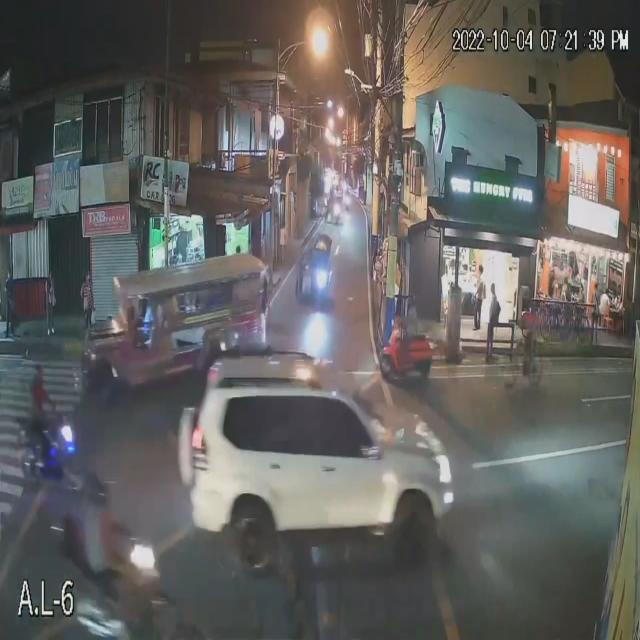Full-Faced: (82, 462, 108, 505), (30, 362, 45, 384), (405, 290, 418, 310)
